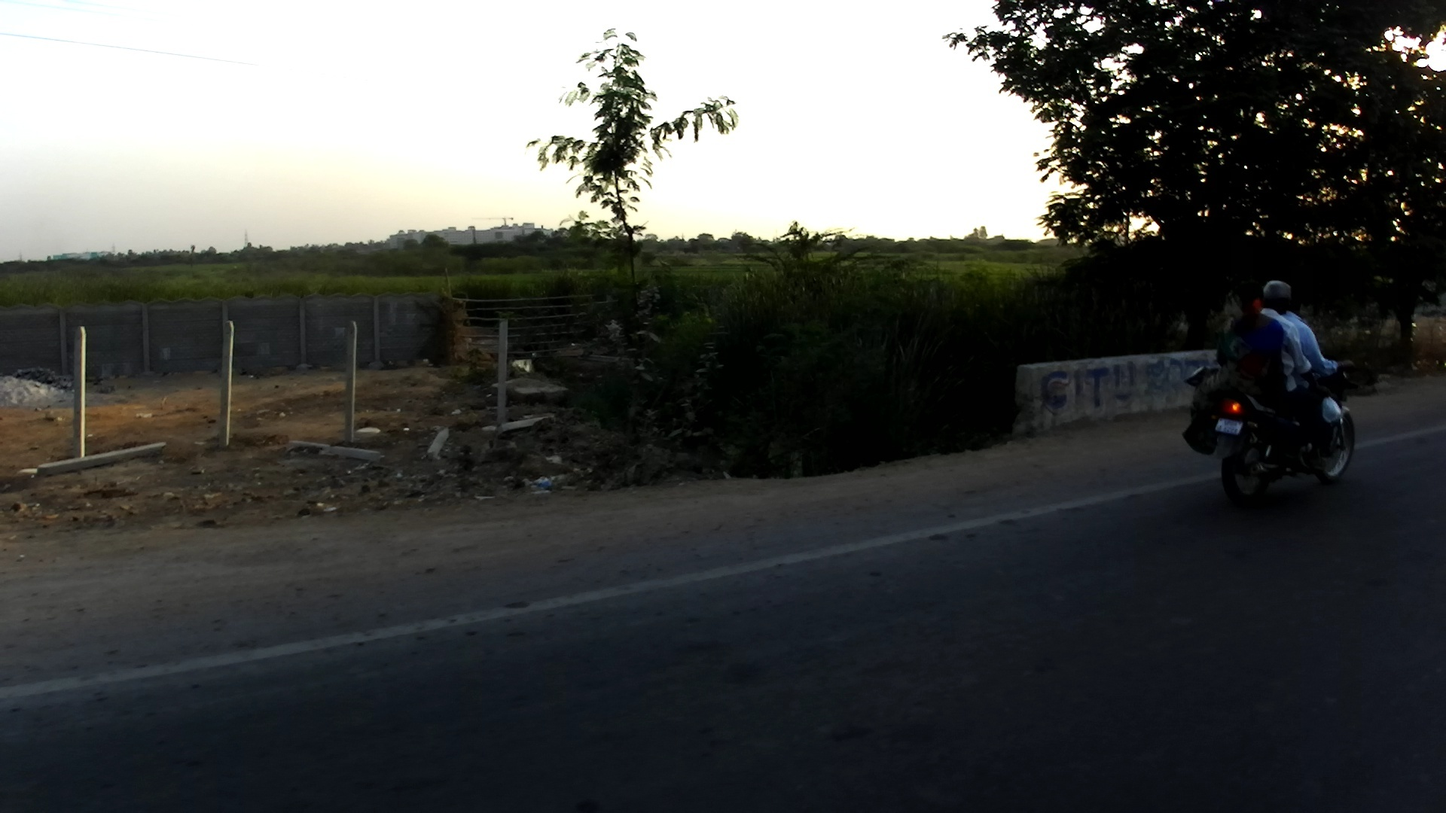motorcycle: (1192, 348, 1361, 507)
rider: (1179, 284, 1286, 458), (1280, 284, 1355, 485), (1251, 277, 1322, 473)
